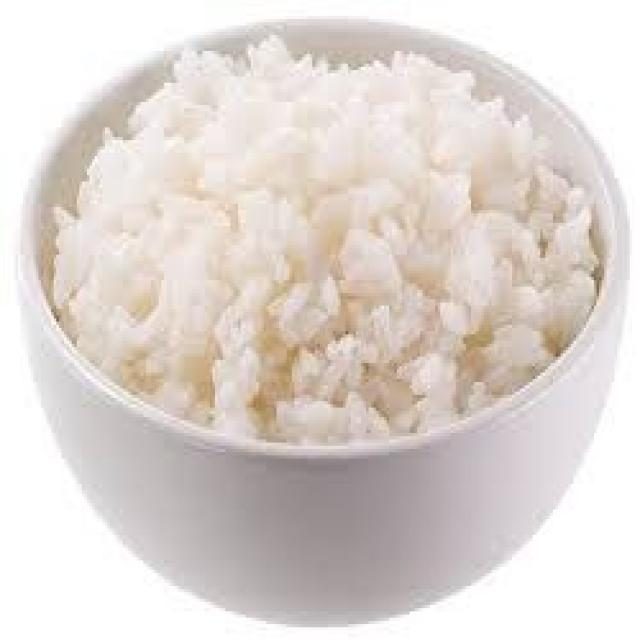Chicken -Chicken Inasal-: (113, 39, 556, 427)
